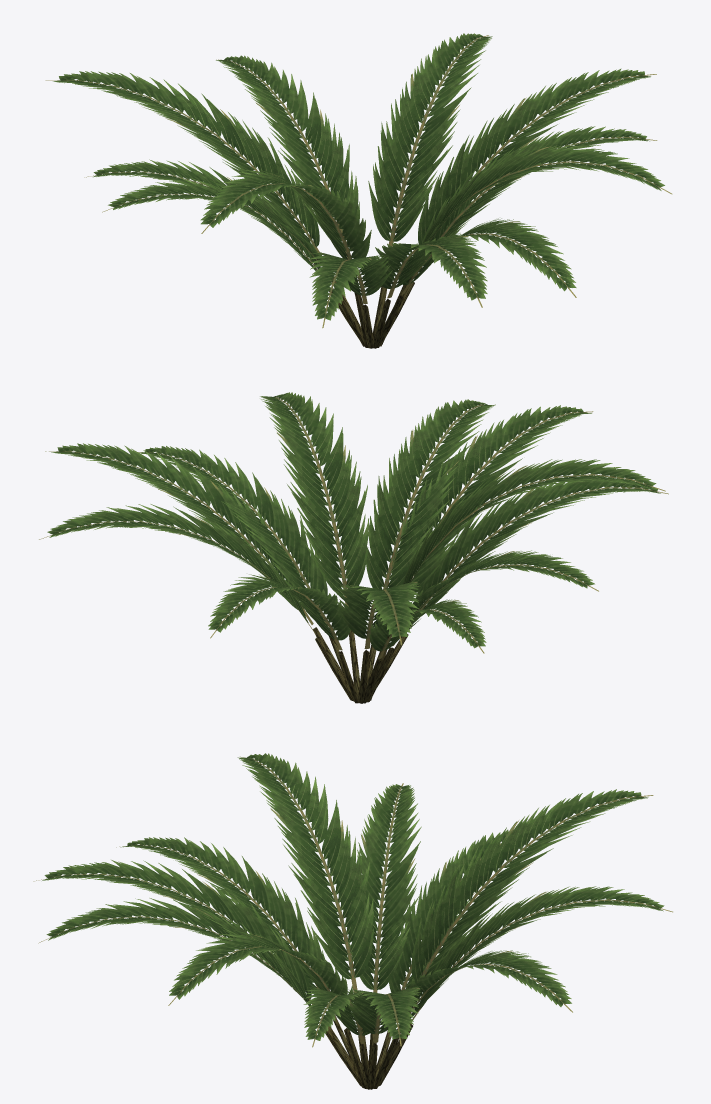
Rendered from golpata_a_lod1.glb.
The picture shows the model from 3 angles, top to bottom: view 1: azimuth 30°, elevation 25°; view 2: azimuth 150°, elevation 25°; view 3: azimuth 270°, elevation 25°; orthographic projection.
Parts seen in each view (by area): view 1: leaves, wood; view 2: leaves, wood; view 3: leaves, wood.
Boxes of the visible parts, bbox=[...] form: leaves: bbox=[45, 33, 672, 328]; wood: bbox=[329, 276, 414, 348]; leaves: bbox=[39, 392, 668, 659]; wood: bbox=[313, 627, 408, 703]; leaves: bbox=[33, 753, 672, 1047]; wood: bbox=[323, 1014, 412, 1089].
Size of the model in its own units: 11.5 by 4.62 by 11.94.
2 materials, 2 textured.
